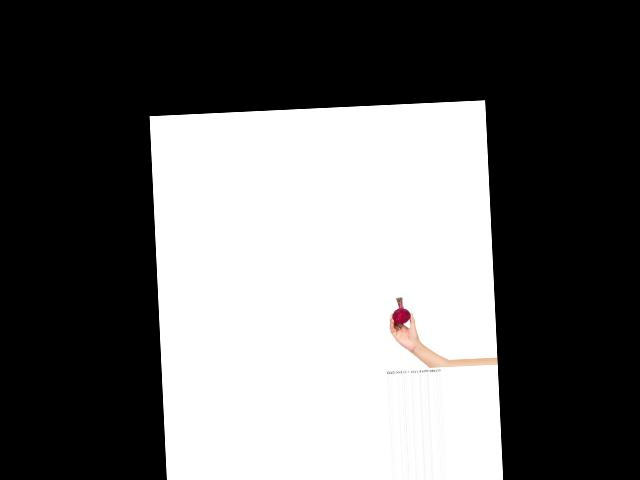beet: (390, 296, 410, 324)
